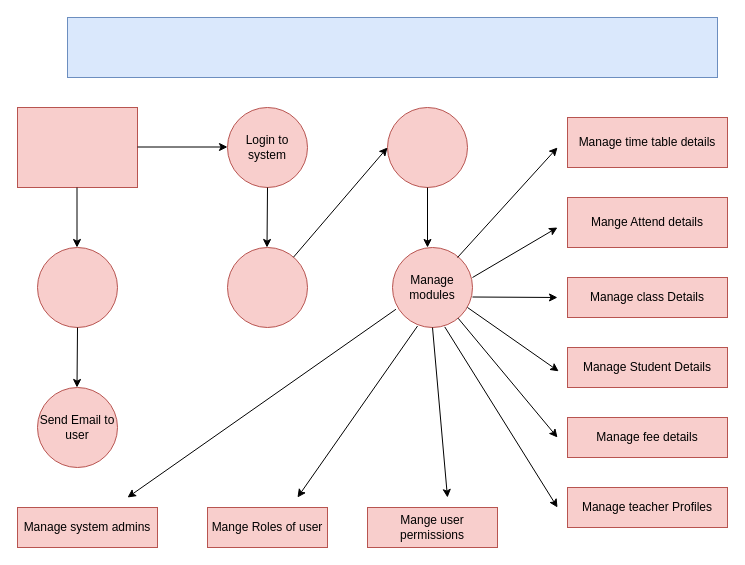
Some shapes in this 745 by 565 pixel diagram are drawn without their labels. The centre of each missing label's shape, as x and y in pixels:
Admin: point 77,147
Checks credentials: point 267,287
Checks roles of access: point 427,147
Forgot Password: point 77,287
Student Information System: point 392,47
